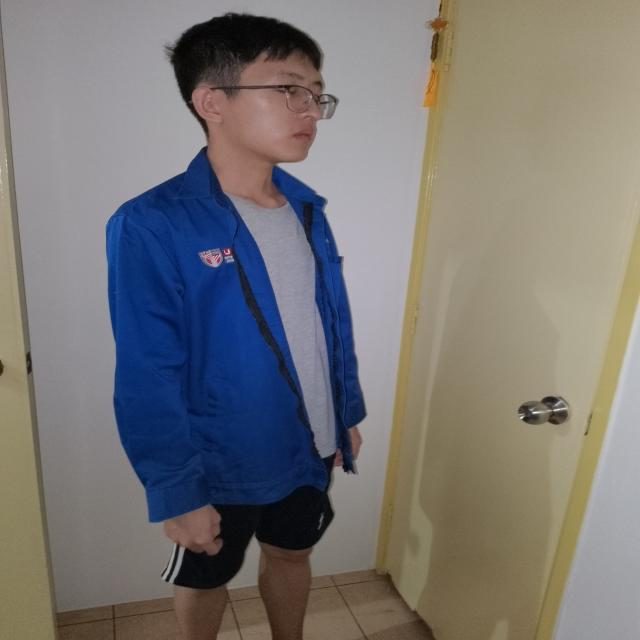person_with_labcoat: (107, 14, 366, 640)
